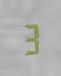three: (19, 20, 40, 55)
